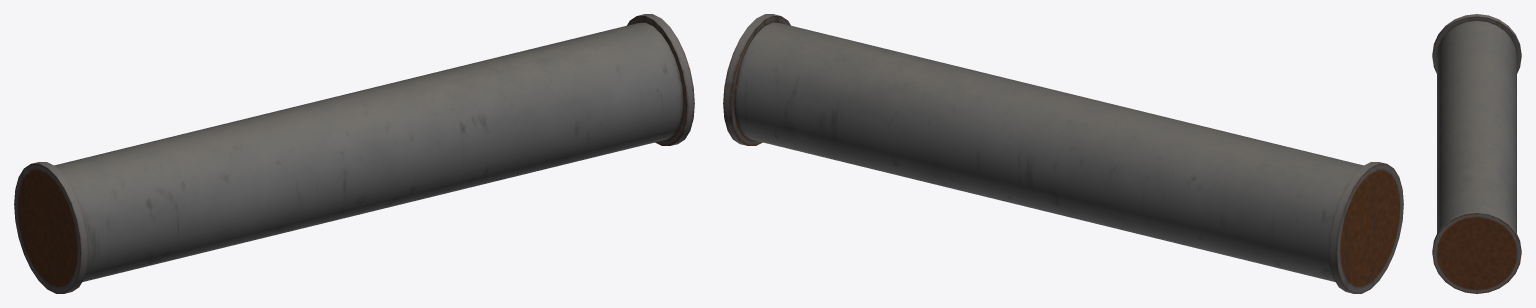
File: SM_Duct_Round_2m.fbx
3 views of the same model, side by side, from view 1: azimuth 30°, elevation 25°; view 2: azimuth 150°, elevation 25°; view 3: azimuth 270°, elevation 25° (orthographic). The views are drawn at different scales.
Visible parts, largest first — view 1: SM_Duct_Round_2m; view 2: SM_Duct_Round_2m; view 3: SM_Duct_Round_2m.
Boxes of the visible parts, x1,y1,x2,y2 form: SM_Duct_Round_2m: (14,14,694,293); SM_Duct_Round_2m: (723,14,1403,293); SM_Duct_Round_2m: (1432,14,1521,293).
Size of the model in its own units: 2.01 by 0.38 by 0.38.
1 material, 1 textured.
